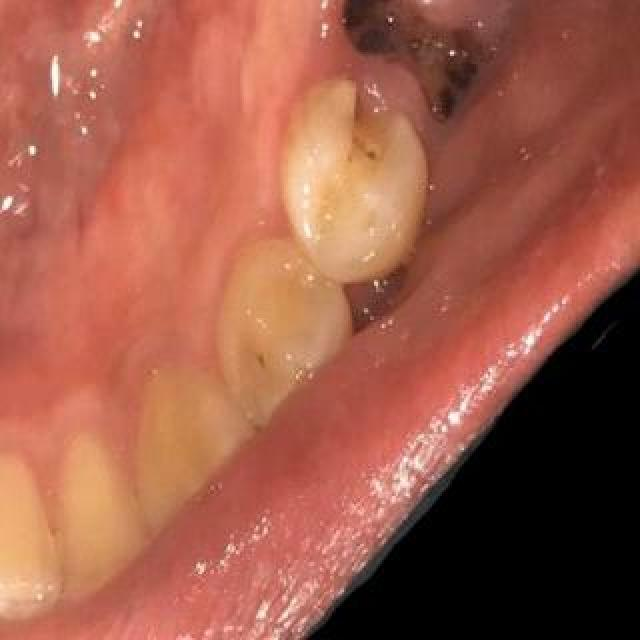cavities: (280, 86, 432, 288)
missing: (364, 0, 514, 40)
plaque: (35, 513, 79, 591), (0, 502, 4, 606)
